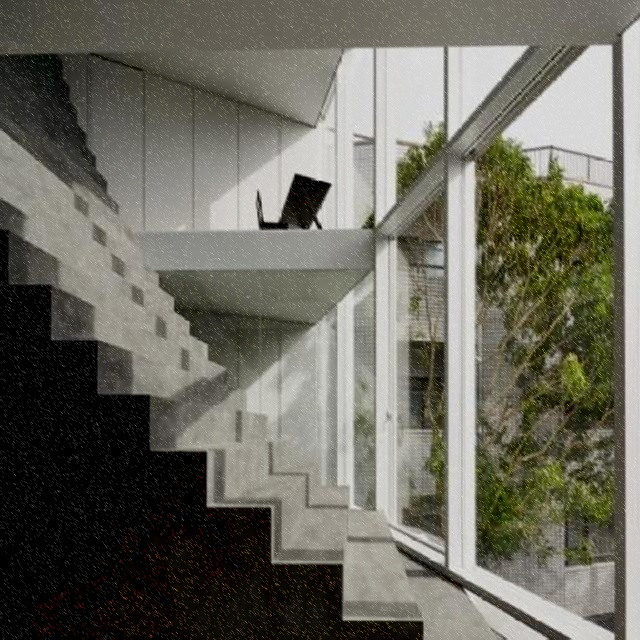stair: (0, 58, 522, 638)
